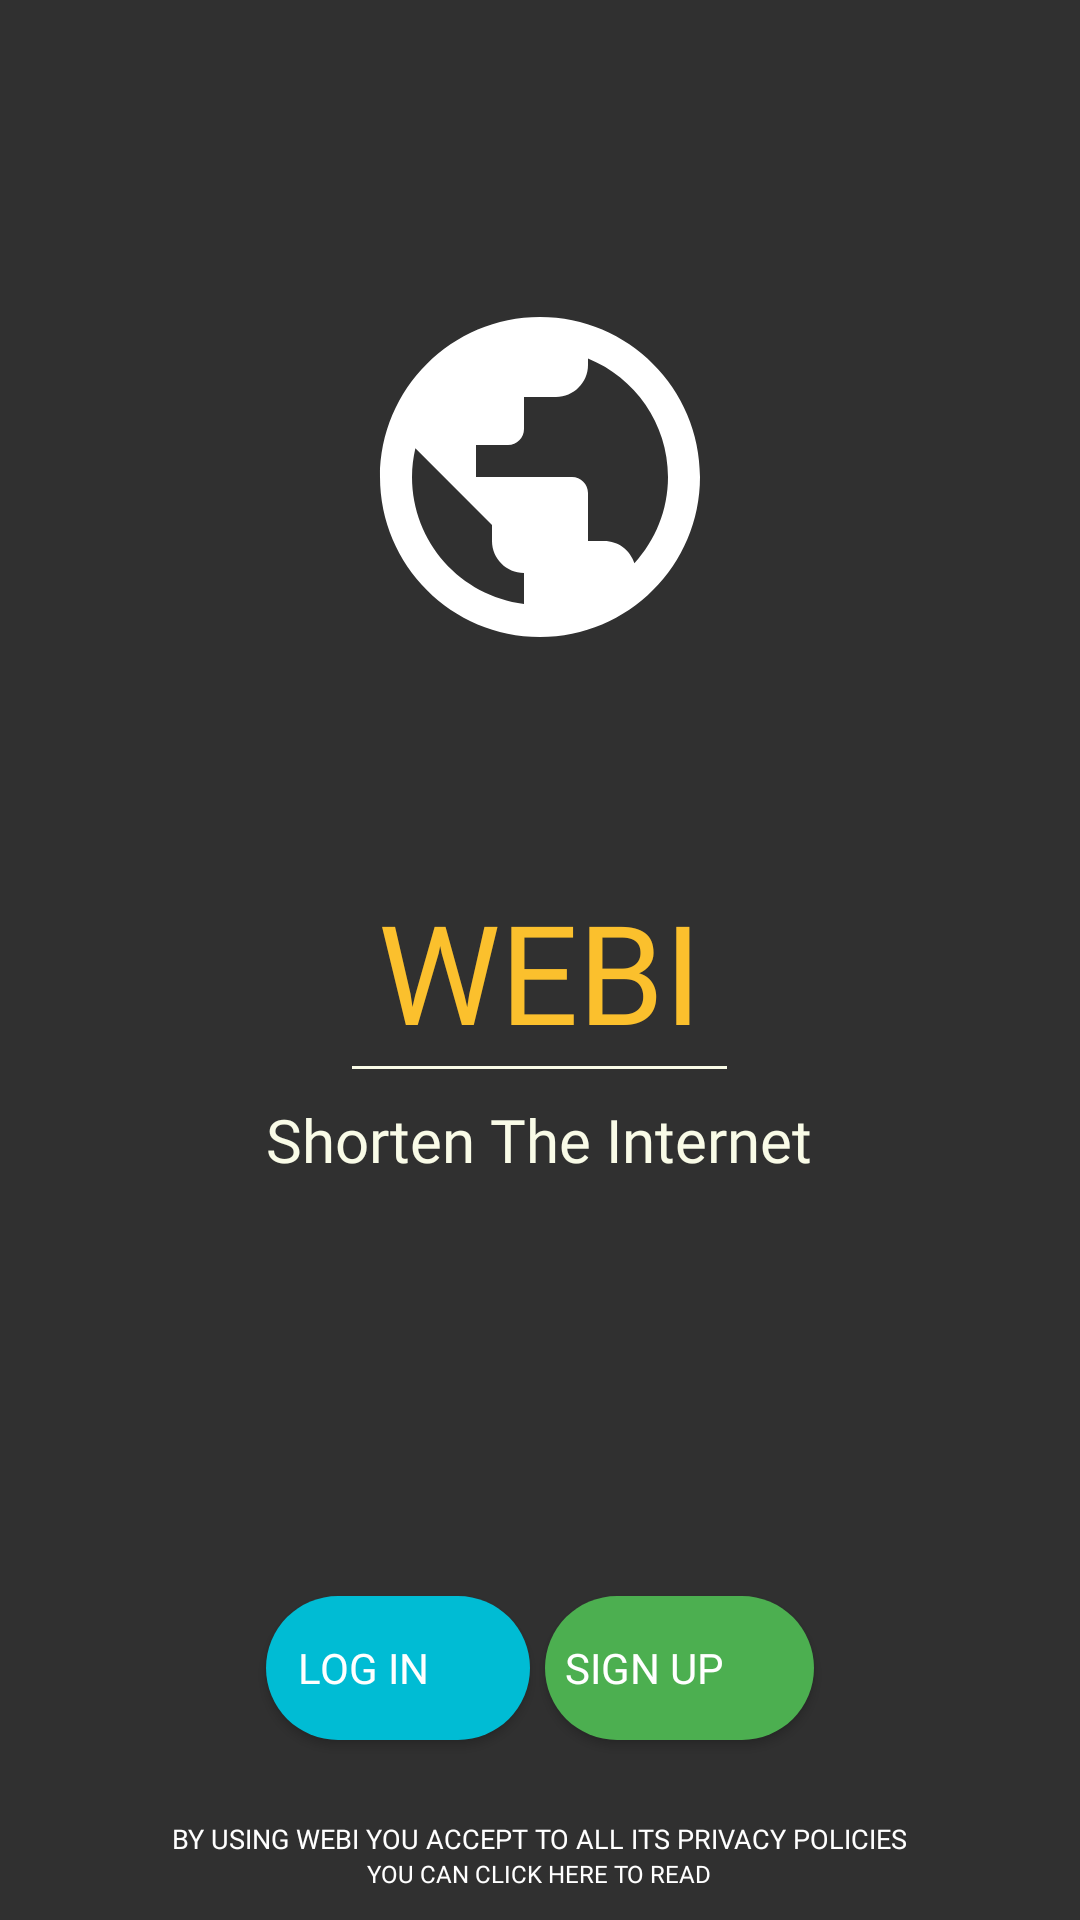

Point at icon controls on the screen. Image size 1080x1920, points as (x=x, y=y).
earth: (x=540, y=477)
